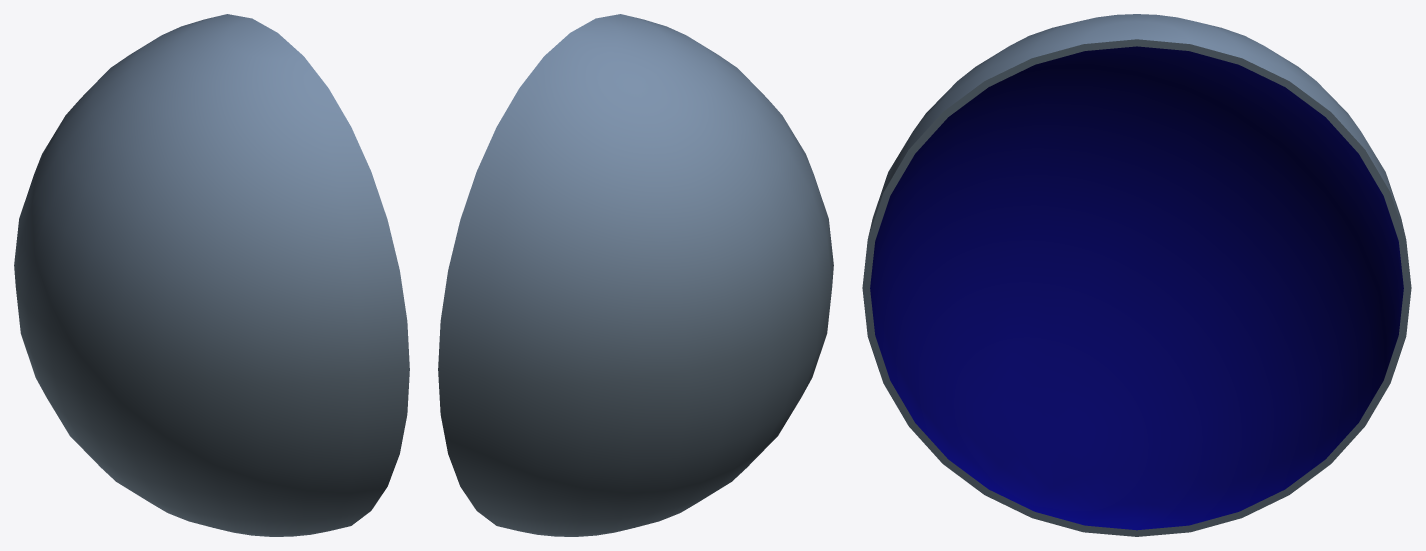
Rendered from RoundPortal.fbx.
The picture shows the model from 3 angles, left to right: view 1: azimuth 30°, elevation 25°; view 2: azimuth 150°, elevation 25°; view 3: azimuth 270°, elevation 25°; orthographic projection. The views are drawn at different scales.
Parts seen in each view (by area): view 1: Sphere; view 2: Sphere; view 3: Sphere.
Boxes of the visible parts, left/top/right/bottom form: Sphere: left=14, top=14, right=409, bottom=536; Sphere: left=438, top=14, right=833, bottom=536; Sphere: left=862, top=14, right=1411, bottom=536.
Size of the model in its own units: 103 by 206 by 206.
